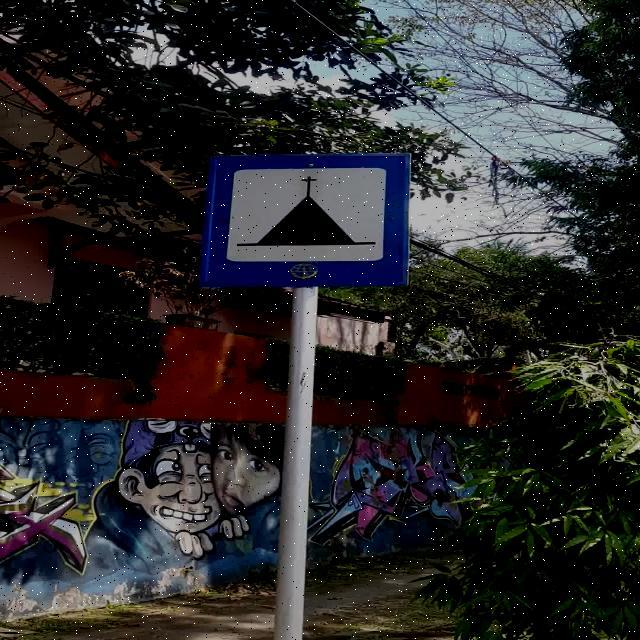Gereja: (195, 153, 412, 287)
